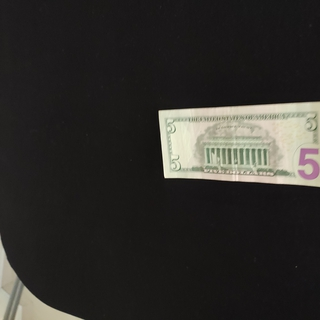5USDBack: (158, 100, 320, 188)
